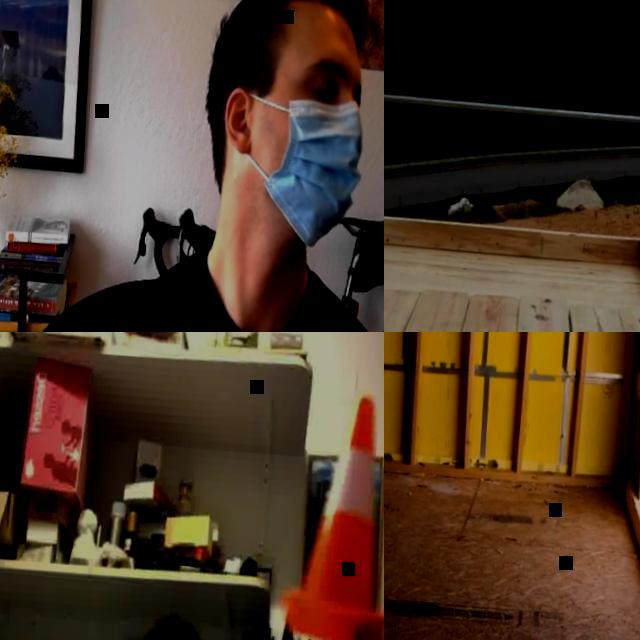mask: (212, 85, 364, 246)
no_helmet: (211, 0, 366, 71), (133, 615, 209, 640)
no_vest: (99, 251, 380, 332)
person: (32, 0, 384, 332)
safety_cone: (275, 386, 384, 640)
